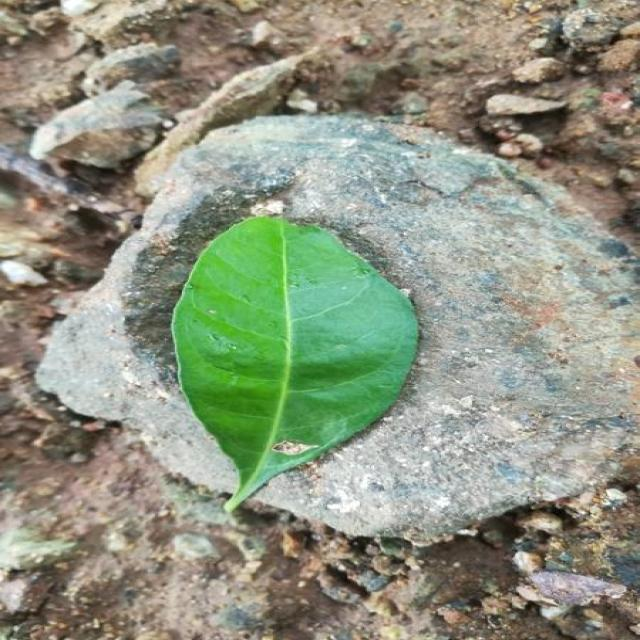henna: (172, 216, 418, 511)
